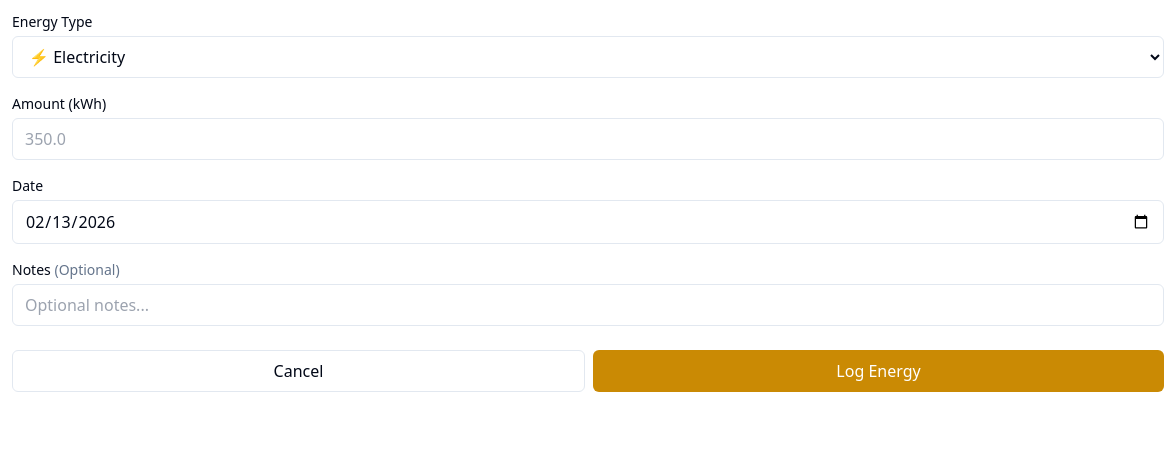
Test: EnergyForm › resets form when cancel is clicked
In the number field with test id "energy-amount-input": (588, 139) [12, 118, 1164, 160], type "350"
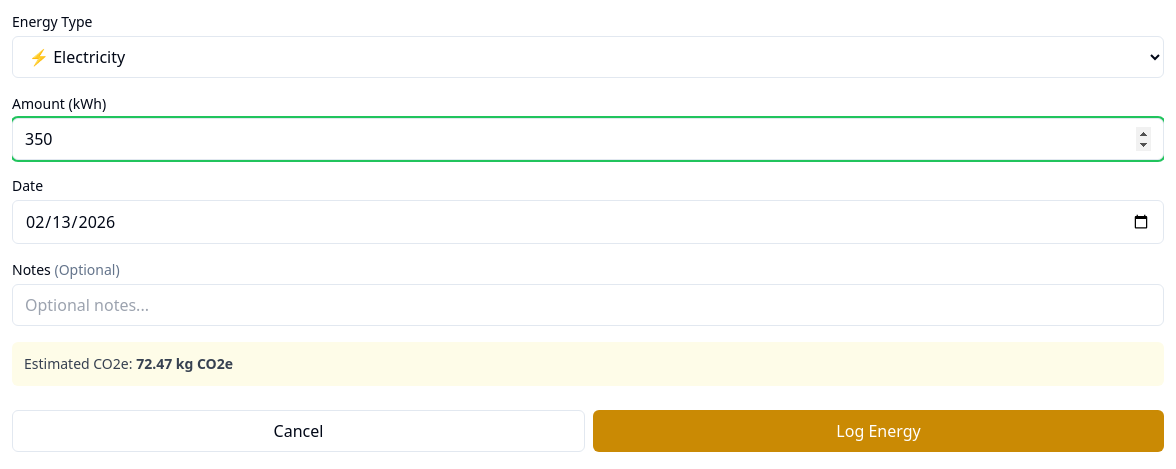
In the field with test id "energy-notes-input": (588, 305) [12, 284, 1164, 326], type "Test note"
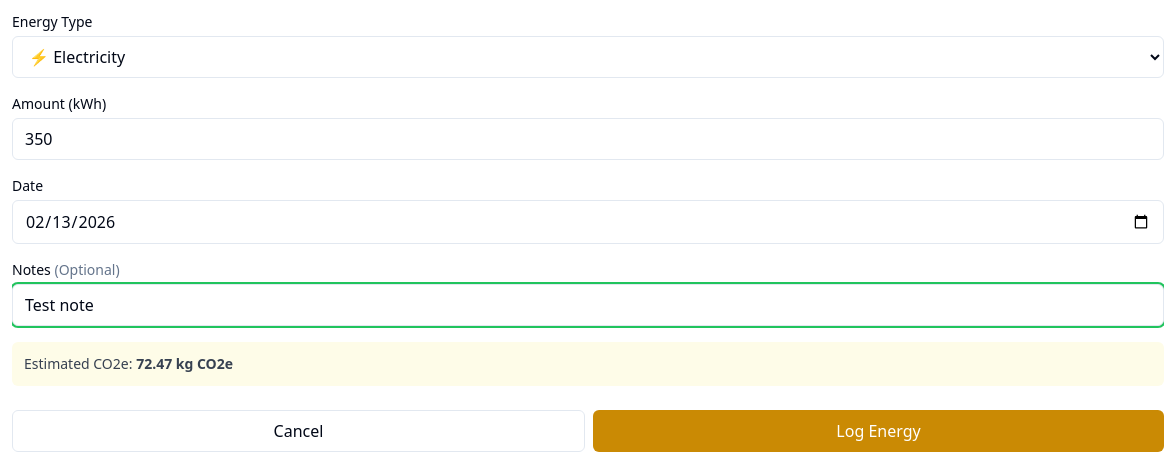
Click the button "Cancel": (298, 431) [12, 410, 585, 452]
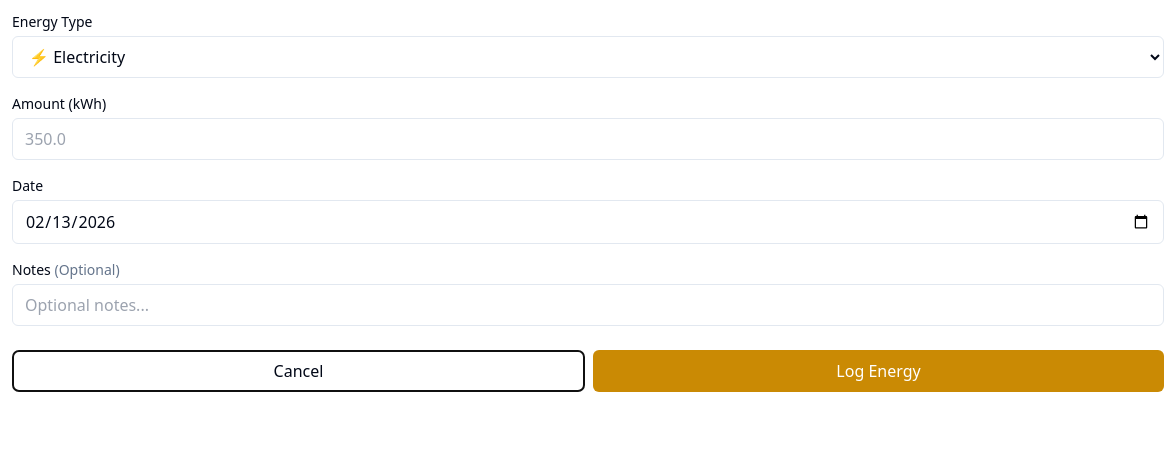
Now the number field with test id "energy-amount-input" is not empty, box [12, 118, 1164, 160]
Now the field with test id "energy-notes-input" is empty, box [12, 284, 1164, 326]
